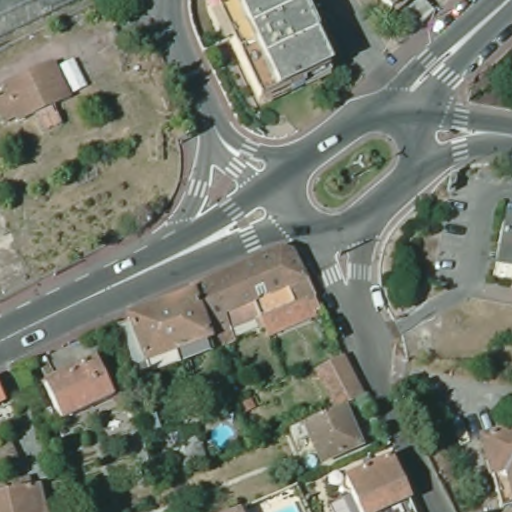pool: (210, 421, 234, 446)
